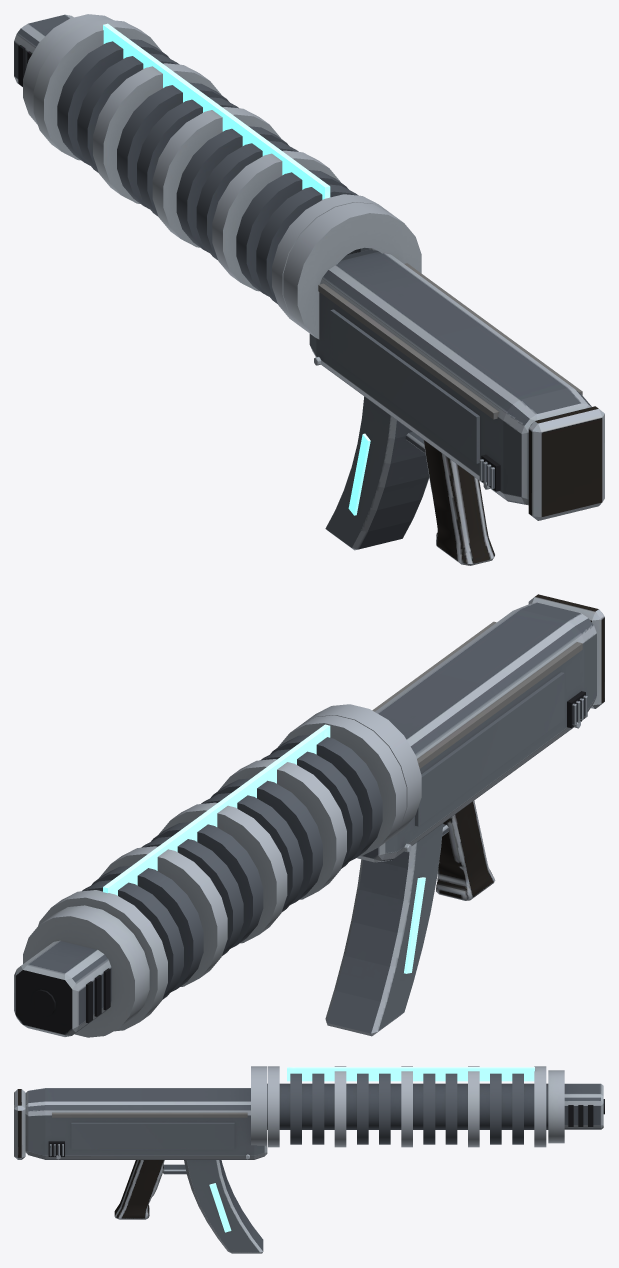
3 views of the same model, one above another, from view 1: azimuth 30°, elevation 25°; view 2: azimuth 150°, elevation 25°; view 3: azimuth 270°, elevation 25° (orthographic). The views are drawn at different scales.
Visible parts, largest first — view 1: body; view 2: body; view 3: body.
Part boxes in pixels (box(x1,y1,x2,y2)): body: box(14, 14, 604, 565); body: box(14, 594, 604, 1037); body: box(14, 1066, 604, 1253).
Size of the model in its own units: 0.1225 by 0.304 by 0.905.
Materials: 1 (1 with a texture image).
